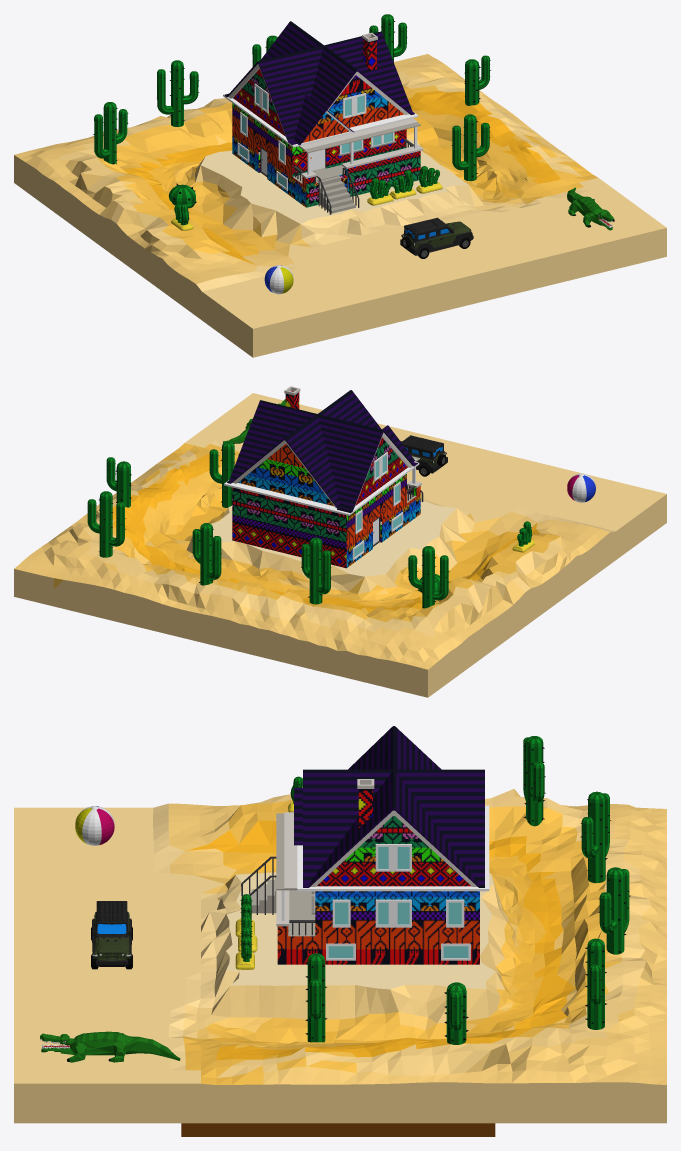
3 renders of one model, top to bottom at view 1: azimuth 30°, elevation 25°; view 2: azimuth 150°, elevation 25°; view 3: azimuth 270°, elevation 25°, orthographic. The views are drawn at different scales.
Visible parts, largest first — view 1: Cube.001, Cube.966, VEHICLES_JEEP, Cylinder.044, Cylinder.037, Cylinder.045, ANIMAL_COCODRILO, Cylinder.038, Cylinder.042, OBJRANDOM_BEACHBALL, Cylinder.039, Cylinder.041; view 2: Cube.001, Cube.966, Cylinder.042, Cylinder.045, Cylinder.044, Cylinder.043, VEHICLES_JEEP, Cylinder.037, Cylinder.038, OBJRANDOM_BEACHBALL; view 3: Cube.001, Cube.966, UNDERGROUND_ART_PIECE_VAN_GOGH, ANIMAL_COCODRILO, VEHICLES_JEEP, Cylinder.043, Cylinder.044, Cylinder.045, Cylinder.037, Cylinder.042, Cylinder.038, OBJRANDOM_BEACHBALL (+1 smaller).
Part boxes in pixels (<box>): Cube.001: <box>14,54,666,357</box>; Cube.966: <box>223,21,423,214</box>; VEHICLES_JEEP: <box>400,217,473,258</box>; Cylinder.044: <box>157,60,199,126</box>; Cylinder.037: <box>451,114,490,181</box>; Cylinder.045: <box>93,102,128,164</box>; ANIMAL_COCODRILO: <box>567,187,614,230</box>; Cylinder.038: <box>464,55,490,105</box>; Cylinder.042: <box>369,14,407,62</box>; OBJRANDOM_BEACHBALL: <box>264,265,293,294</box>; Cylinder.039: <box>367,178,393,205</box>; Cylinder.041: <box>416,166,442,193</box>; Cube.001: <box>14,393,666,697</box>; Cube.966: <box>224,386,423,568</box>; Cylinder.042: <box>87,491,125,557</box>; Cylinder.045: <box>408,546,449,608</box>; Cylinder.044: <box>301,537,331,604</box>; Cylinder.043: <box>192,523,221,585</box>; VEHICLES_JEEP: <box>400,435,447,476</box>; Cylinder.037: <box>209,441,239,507</box>; Cylinder.038: <box>106,457,131,507</box>; OBJRANDOM_BEACHBALL: <box>567,473,595,502</box>; Cube.001: <box>14,789,666,1123</box>; Cube.966: <box>241,726,489,964</box>; UNDERGROUND_ART_PIECE_VAN_GOGH: <box>181,1123,495,1136</box>; ANIMAL_COCODRILO: <box>40,1031,180,1062</box>; VEHICLES_JEEP: <box>91,901,132,969</box>; Cylinder.043: <box>598,867,630,954</box>; Cylinder.044: <box>580,791,610,883</box>; Cylinder.045: <box>523,736,545,826</box>; Cylinder.037: <box>305,953,327,1042</box>; Cylinder.042: <box>585,938,606,1029</box>; Cylinder.038: <box>444,982,468,1044</box>; OBJRANDOM_BEACHBALL: <box>75,806,114,845</box>.
Bounding box in the file's own units: 4002 × 1752 × 4001.
37 materials, 7 textured.
